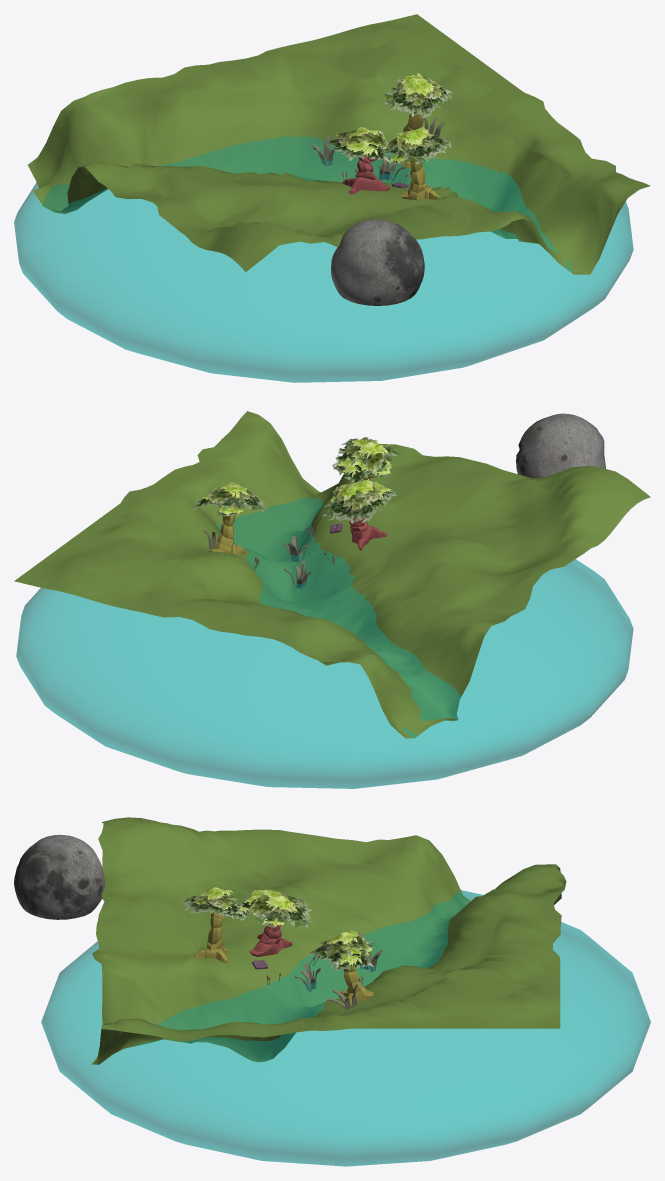
File: forest_environ_01.fbx
3 renders of one model, top to bottom at view 1: azimuth 30°, elevation 25°; view 2: azimuth 150°, elevation 25°; view 3: azimuth 270°, elevation 25°, orthographic. The views are drawn at different scales.
Visible parts, largest first — view 1: ground, temp_water, moon, tree_asset_03_03:pPlane1, tree_asset_04_02:pCylinder1, pCylinder1, pPlane1, tree_asset_04_02:pPlane5, tree_asset_03_03:pPlane5; view 2: temp_water, ground, moon, tree_asset_04_02:pPlane1, tree_asset_03_03:pCylinder1, tree_asset_04_02:pCylinder1, tree_asset_04_02:pPlane5, pPlane5, pPlane1; view 3: temp_water, ground, moon, pCylinder1, tree_asset_04_02:pCylinder1, tree_asset_04_02:pPlane1, tree_asset_04_02:pPlane5, tree_asset_03_03:pCylinder1, pPlane1.
Boxes of the visible parts, x1,y1,x2,y2 form: ground: (27,14,650,274); temp_water: (14,137,633,382); moon: (331,219,424,305); tree_asset_03_03:pPlane1: (384,77,453,117); tree_asset_04_02:pCylinder1: (342,134,389,194); pCylinder1: (401,156,439,200); pPlane1: (383,135,451,164); tree_asset_04_02:pPlane5: (336,130,387,148); tree_asset_03_03:pPlane5: (394,76,443,106); temp_water: (16,497,633,788); ground: (14,411,650,738); moon: (516,413,605,478); tree_asset_04_02:pPlane1: (322,493,397,523); tree_asset_03_03:pCylinder1: (209,503,245,555); tree_asset_04_02:pCylinder1: (348,507,387,550); tree_asset_04_02:pPlane5: (332,484,385,510); pPlane5: (343,437,390,471); pPlane1: (332,438,398,471); temp_water: (41,890,650,1166); ground: (91,817,566,1064); moon: (14,834,104,919); pCylinder1: (194,910,229,963); tree_asset_04_02:pCylinder1: (249,925,292,956); tree_asset_04_02:pPlane1: (252,895,313,927); tree_asset_04_02:pPlane5: (246,892,304,917); tree_asset_03_03:pCylinder1: (339,965,373,1006); pPlane1: (179,894,245,916).
Size of the model in its own units: 227 by 86.12 by 237.
